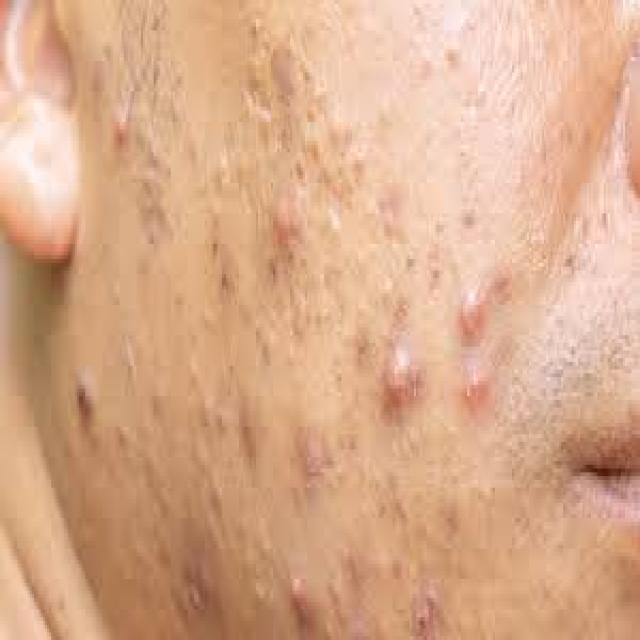Acne: (183, 532, 220, 615), (285, 566, 320, 638), (409, 572, 446, 640), (295, 422, 330, 492), (383, 346, 421, 407), (375, 175, 409, 242), (269, 182, 300, 254), (67, 369, 102, 426), (462, 357, 492, 420), (107, 98, 134, 158), (456, 288, 487, 340)
